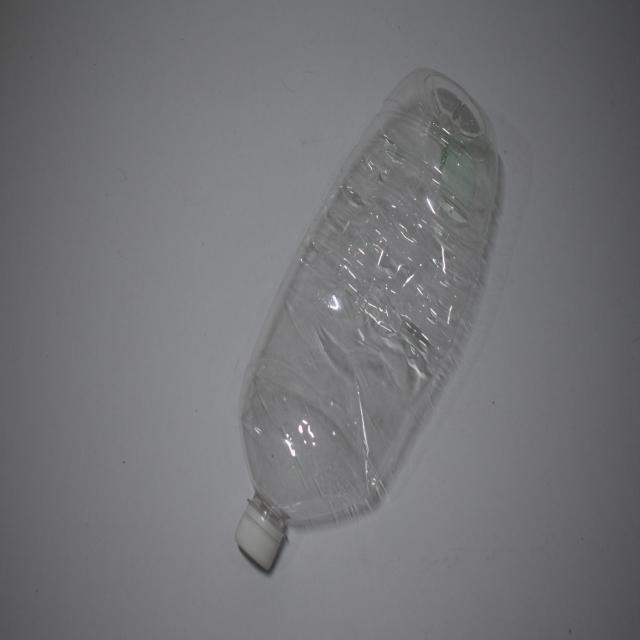bottle: (232, 69, 508, 589)
